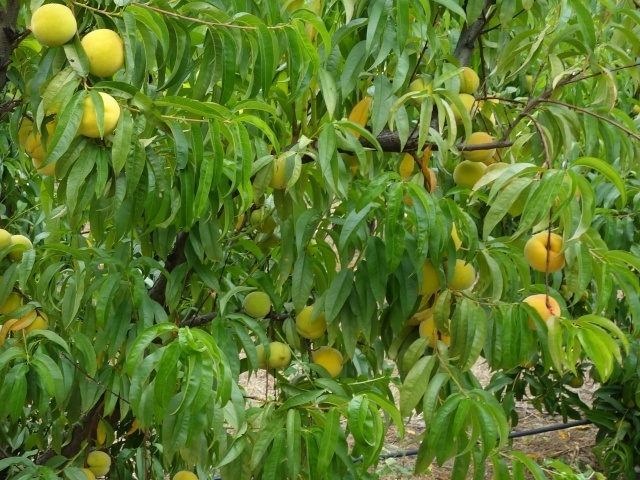peach: (79, 24, 127, 81), (522, 224, 570, 281), (28, 0, 80, 48), (76, 90, 124, 139), (519, 287, 564, 332), (412, 314, 456, 353), (443, 253, 481, 295), (308, 341, 347, 381), (453, 156, 491, 194), (459, 130, 499, 165), (295, 303, 328, 342), (445, 88, 478, 125), (25, 126, 56, 165), (27, 152, 65, 182), (19, 306, 53, 338), (454, 63, 486, 97), (402, 74, 438, 104), (264, 337, 295, 371), (242, 287, 273, 320), (83, 448, 114, 478), (8, 231, 34, 259)
